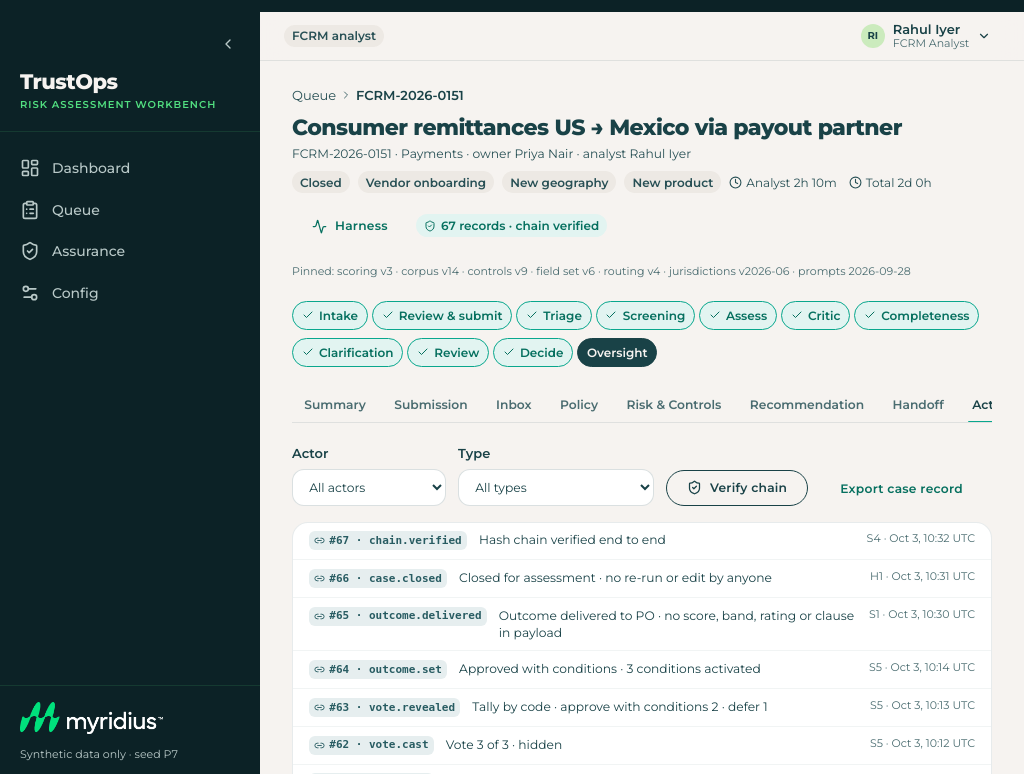
Test case: Verify chain on the analyst Activity tab › names the first broken record when the chain is broken
Click the button "Verify chain" at (737, 488), box [666,470,808,506]
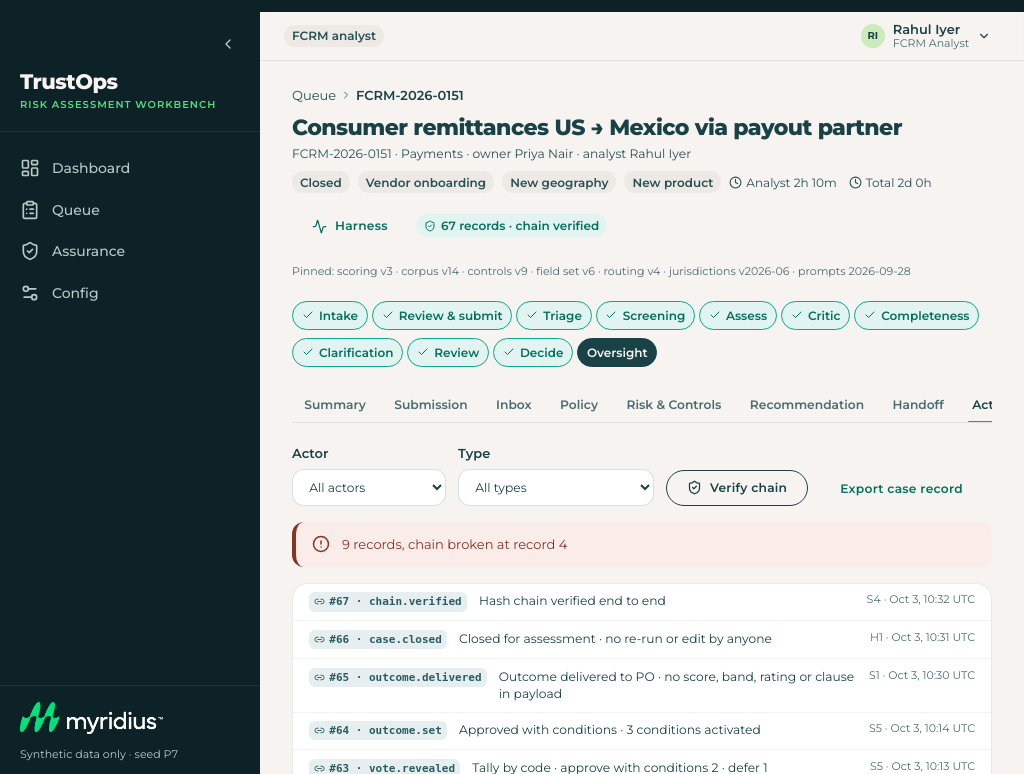
Now the text "9 records, chain broken at record 4" is shown, box [342,536,567,552]
